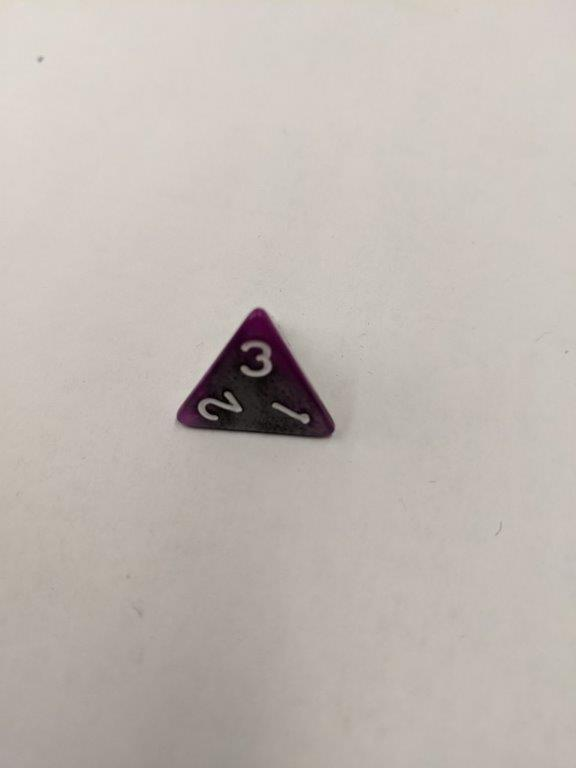d4-3: (166, 304, 340, 447)
